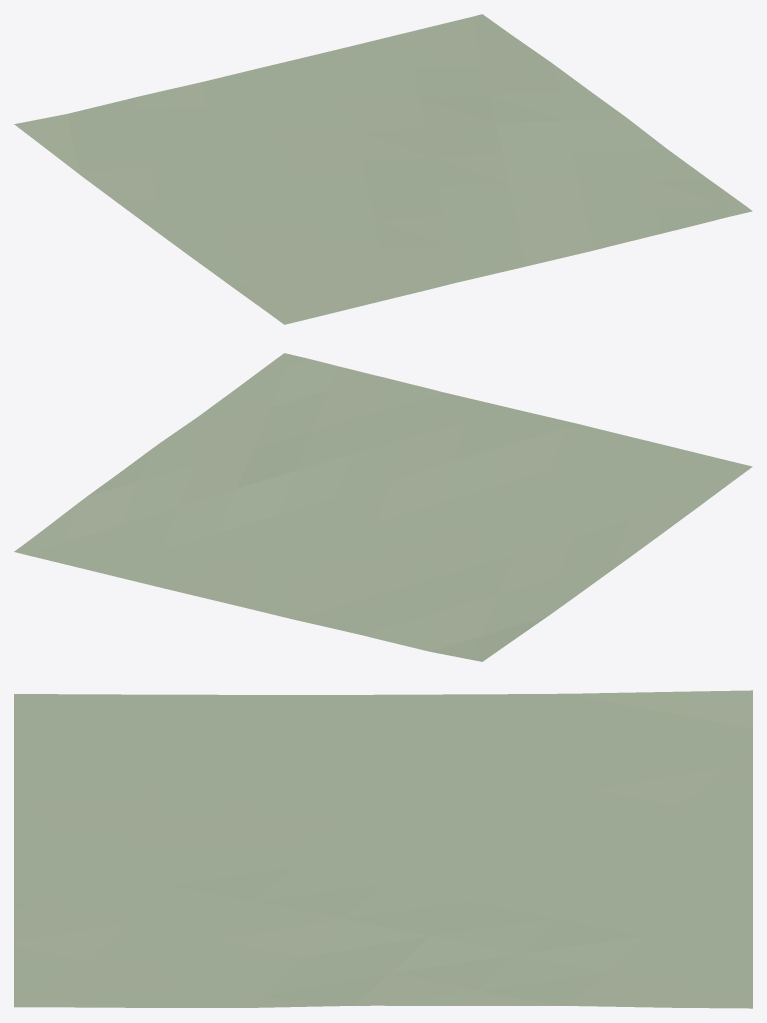
File: SM_MPRR_Terrain_2_0.fbx
The picture shows the model from 3 angles, top to bottom: view 1: azimuth 30°, elevation 25°; view 2: azimuth 150°, elevation 25°; view 3: azimuth 270°, elevation 25°; orthographic projection. The views are drawn at different scales.
Parts seen in each view (by area): view 1: SM_MPRR_Terrain_2_0; view 2: SM_MPRR_Terrain_2_0; view 3: SM_MPRR_Terrain_2_0.
Part boxes in pixels (box(x1,y1,x2,y2)): SM_MPRR_Terrain_2_0: box(14, 14, 752, 324); SM_MPRR_Terrain_2_0: box(14, 353, 752, 661); SM_MPRR_Terrain_2_0: box(14, 690, 752, 1008).
Bounding box in the file's own units: 15000 × 15000 × 134.
